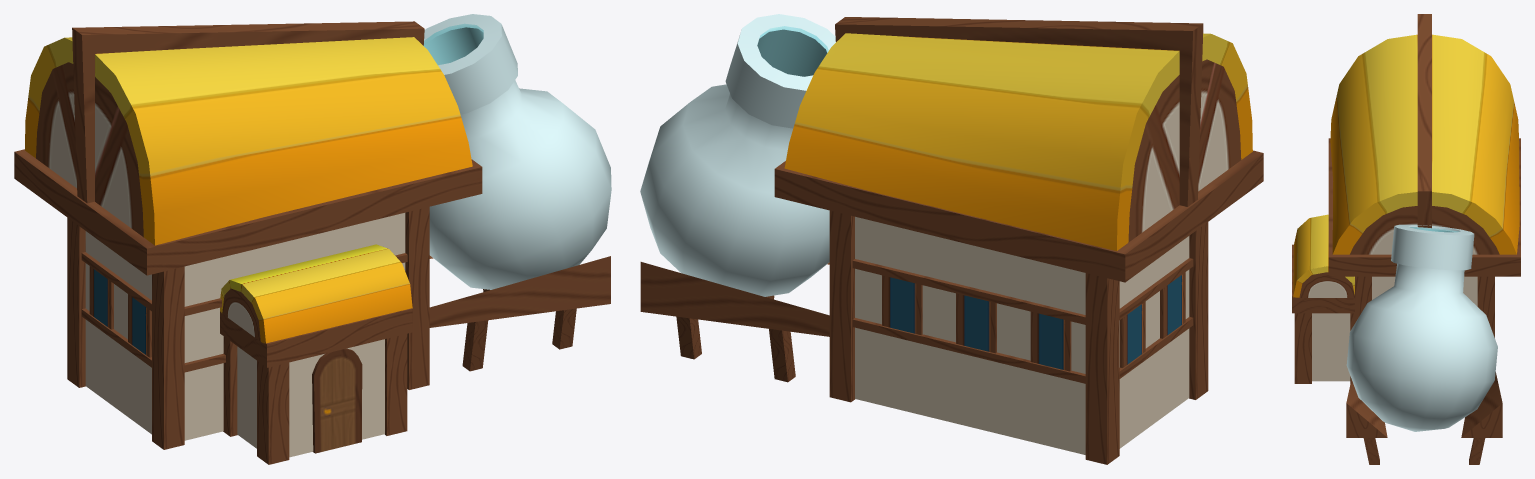
File: building_potion_lv3.FBX
3 renders of one model, left to right at view 1: azimuth 30°, elevation 25°; view 2: azimuth 150°, elevation 25°; view 3: azimuth 270°, elevation 25°, orthographic. The views are drawn at different scales.
Visible parts, largest first — view 1: building_potion_roof_lv3, building_potion_lv3, building_potion_bottleout_lv3, building_potion_bottle_lv3; view 2: building_potion_roof_lv3, building_potion_lv3, building_potion_bottleout_lv3, building_potion_bottle_lv3; view 3: building_potion_roof_lv3, building_potion_bottleout_lv3, building_potion_lv3.
Part boxes in pixels (x1=…): building_potion_roof_lv3: x1=25, y1=37, x2=472, y2=457; building_potion_lv3: x1=14, y1=21, x2=610, y2=464; building_potion_bottleout_lv3: x1=424, y1=14, x2=611, y2=289; building_potion_bottle_lv3: x1=423, y1=23, x2=483, y2=65; building_potion_roof_lv3: x1=784, y1=33, x2=1252, y2=454; building_potion_lv3: x1=640, y1=17, x2=1263, y2=464; building_potion_bottleout_lv3: x1=640, y1=14, x2=835, y2=296; building_potion_bottle_lv3: x1=757, y1=26, x2=828, y2=76; building_potion_roof_lv3: x1=1293, y1=34, x2=1519, y2=381; building_potion_bottleout_lv3: x1=1346, y1=224, x2=1497, y2=431; building_potion_lv3: x1=1292, y1=14, x2=1520, y2=464.
Bounding box in the file's own units: 607 × 445 × 319.
